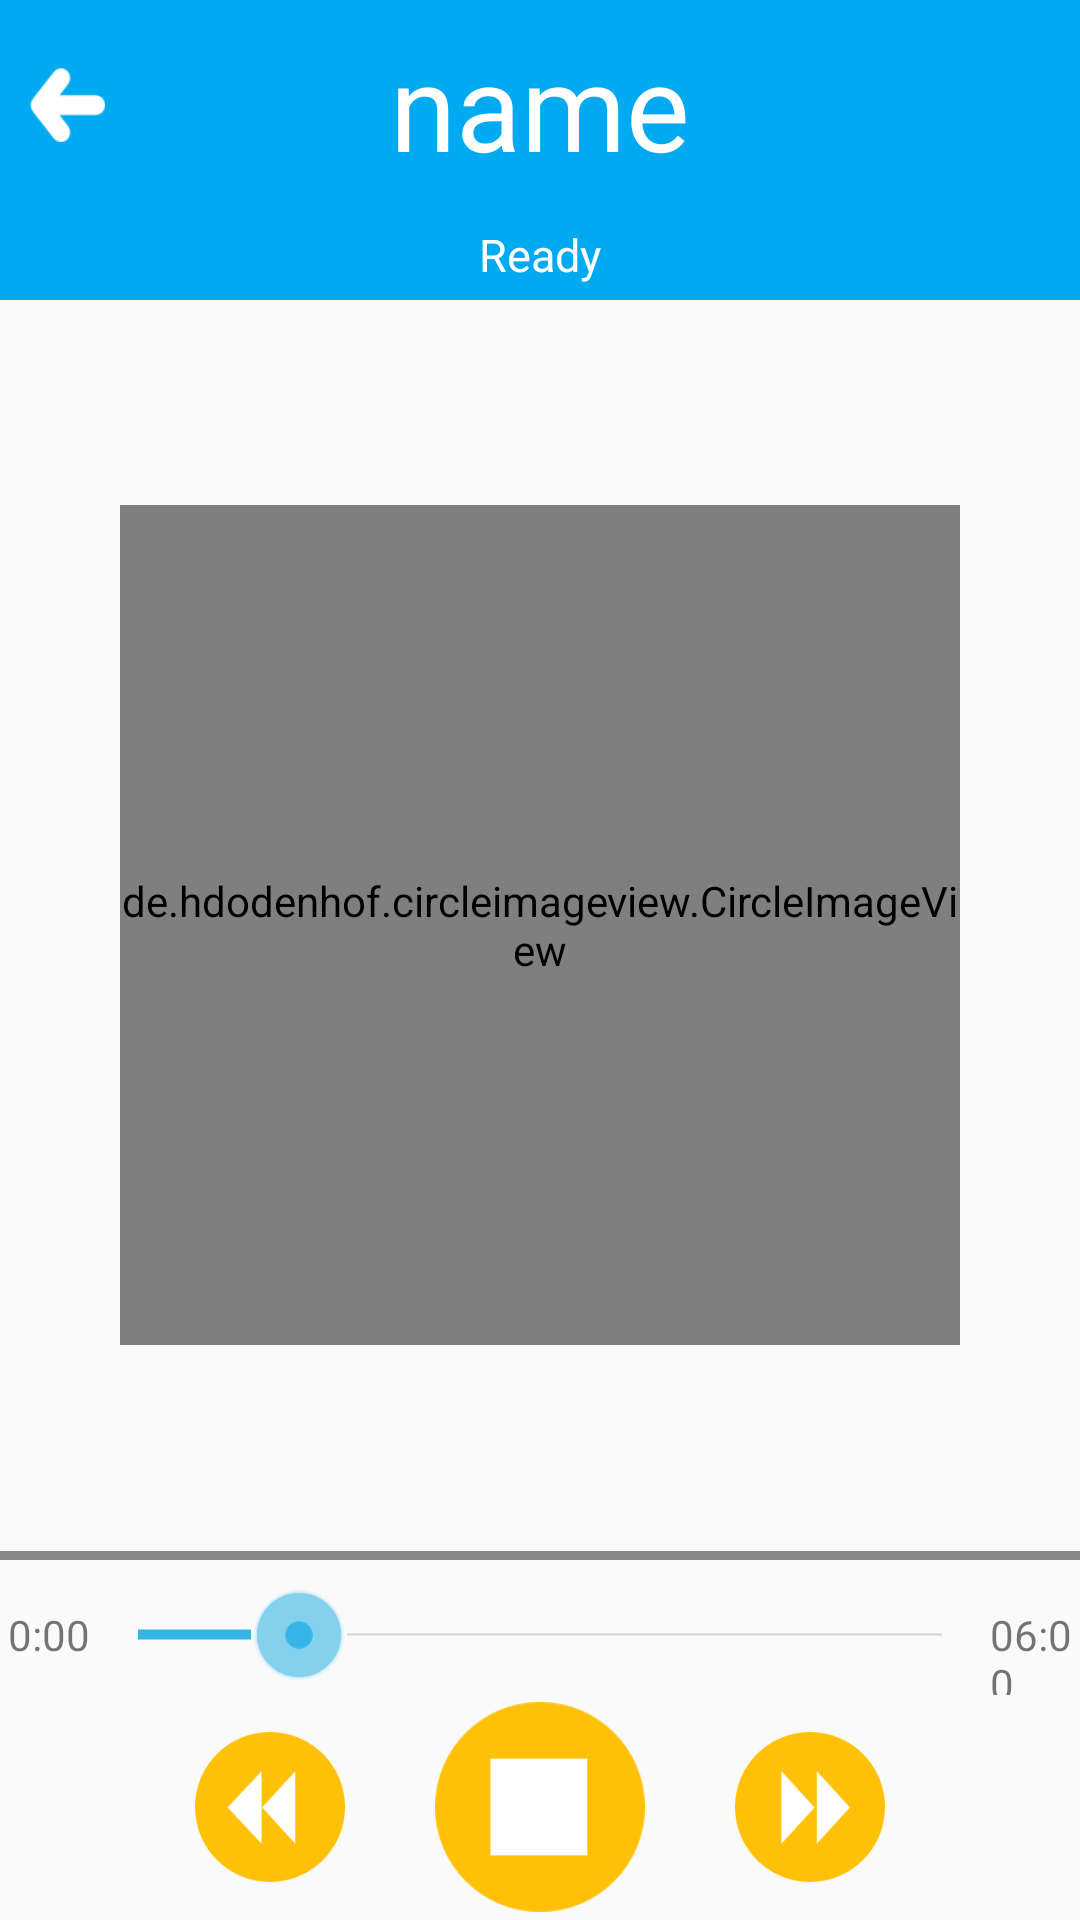

Where icons sit on this 1080px x 1920px app screen, as (x1, y1, x2, y2):
left: (30, 68, 105, 142)
next: (735, 1732, 885, 1882)
previous: (195, 1732, 345, 1882)
stop: (435, 1702, 645, 1912)
